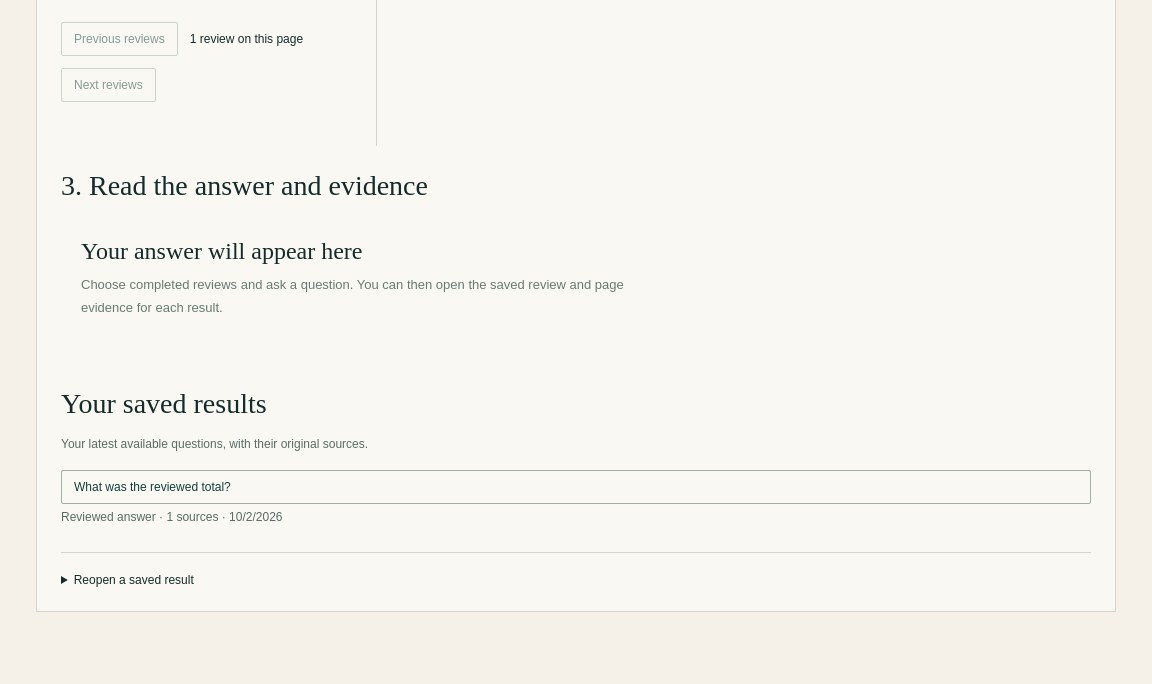
Test: named question workflows › opens a saved question by name with GET and reuses only its frozen indexes
(page scrolled)
Click the button "What was the reviewed total?" at point(152, 487), box [61,470,1091,504]
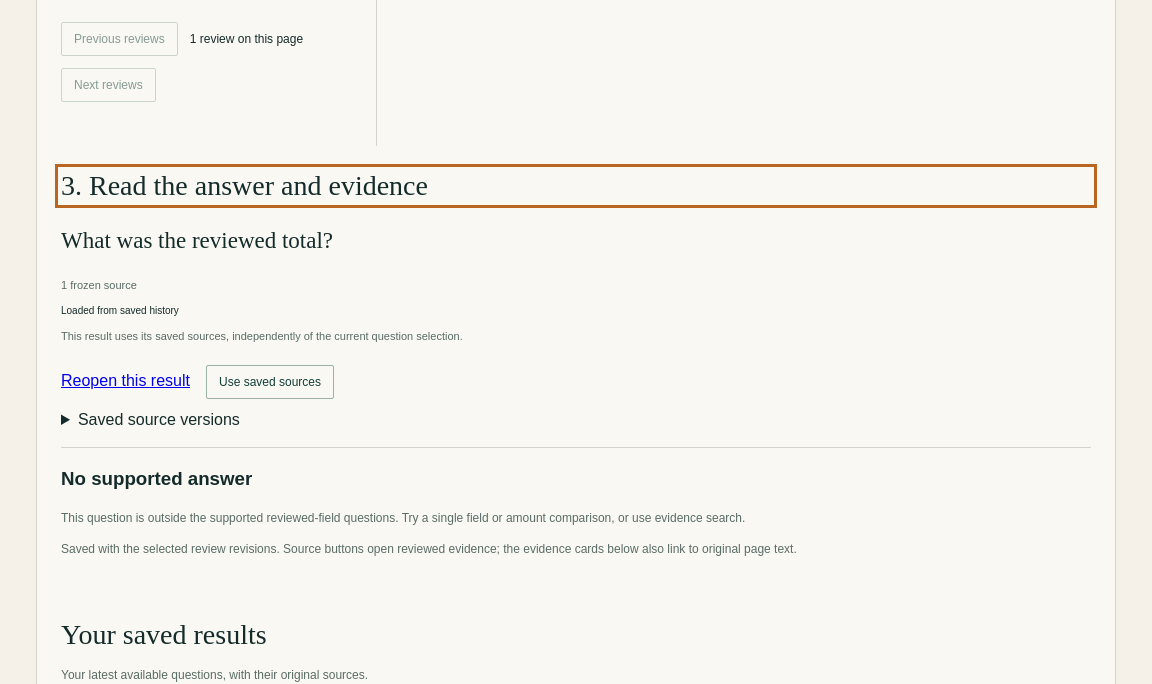
expect the heading "What was the reviewed total?" is shown: met, box [61,228,333,253]
Click the button "Use saved sources" at point(270, 382), box [206,365,334,399]
(page scrolled)
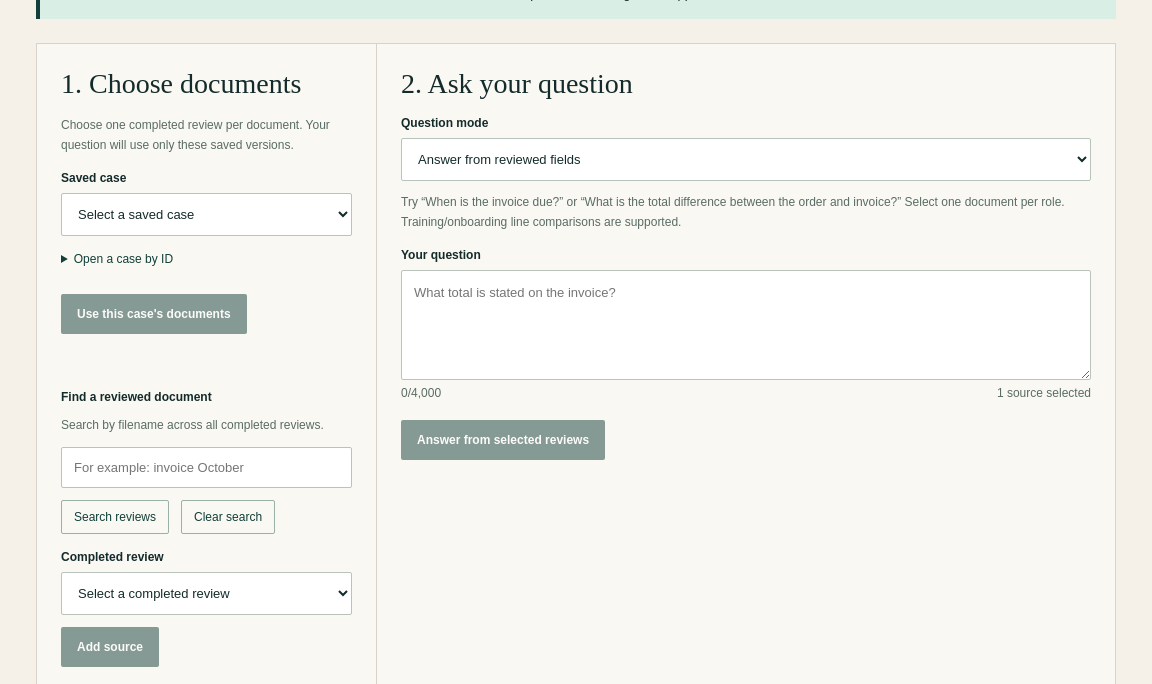
Type "When is it due?" into the text box labelled "Your question" at point(746, 325), box [401,270,1091,380]
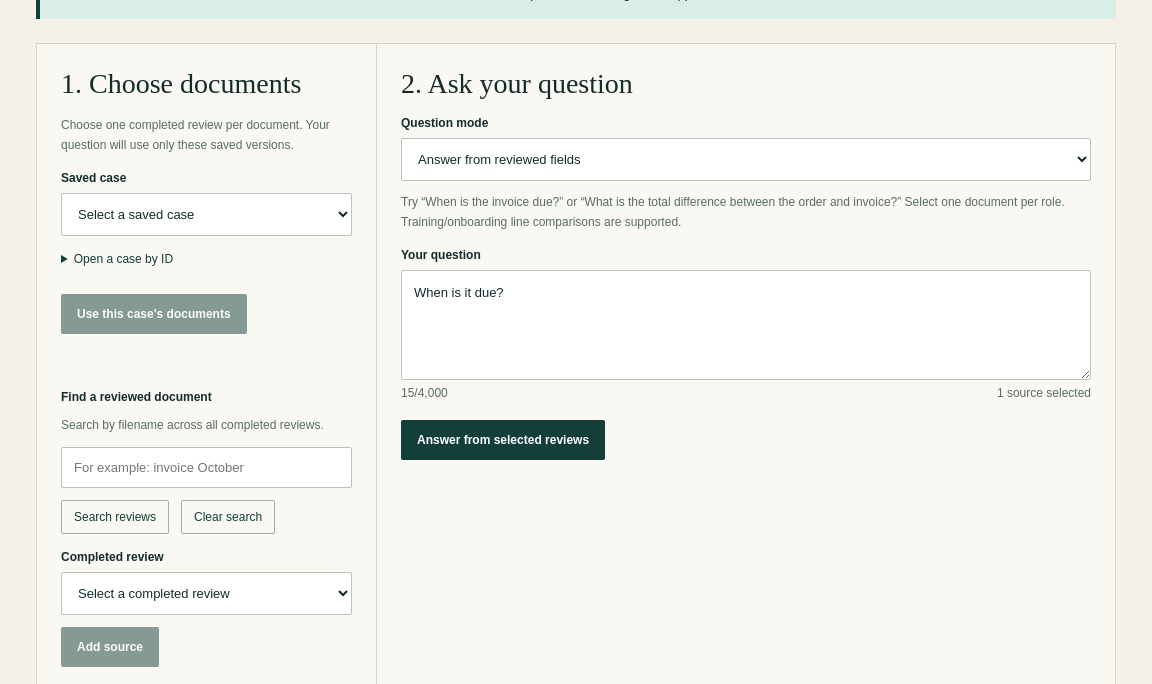
Click the button "Answer from selected reviews" at point(503, 440), box [401,420,605,460]
(page scrolled)
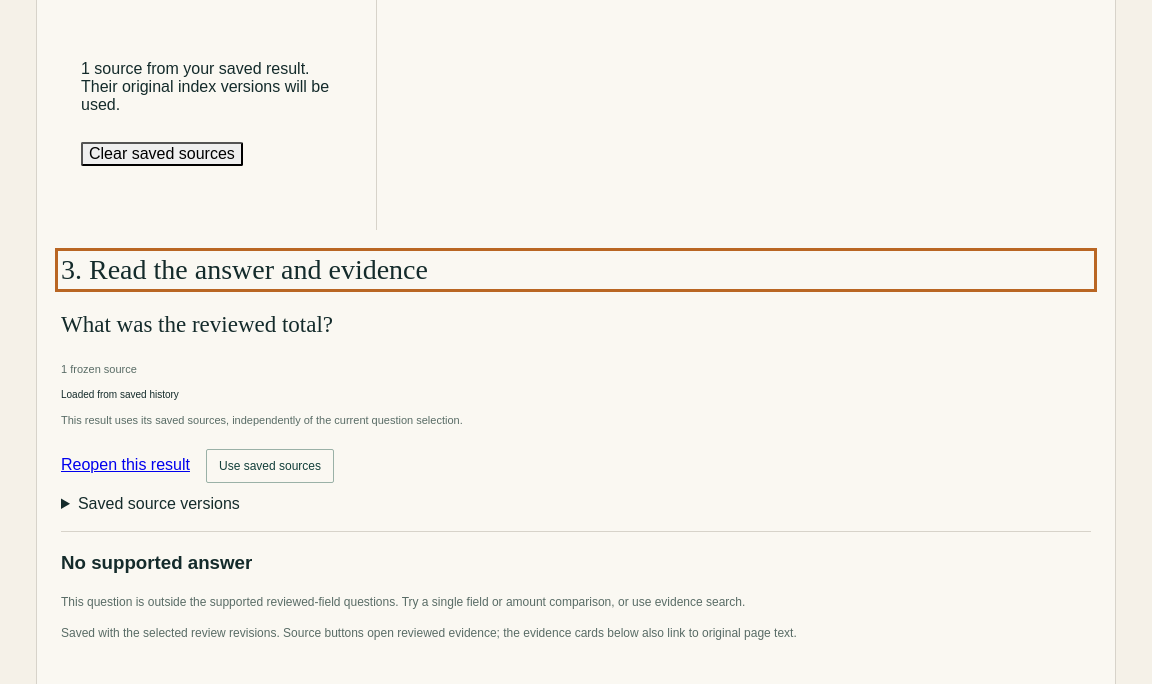
expect the heading "What was the reviewed total?" is shown: met, box [61,312,333,337]
